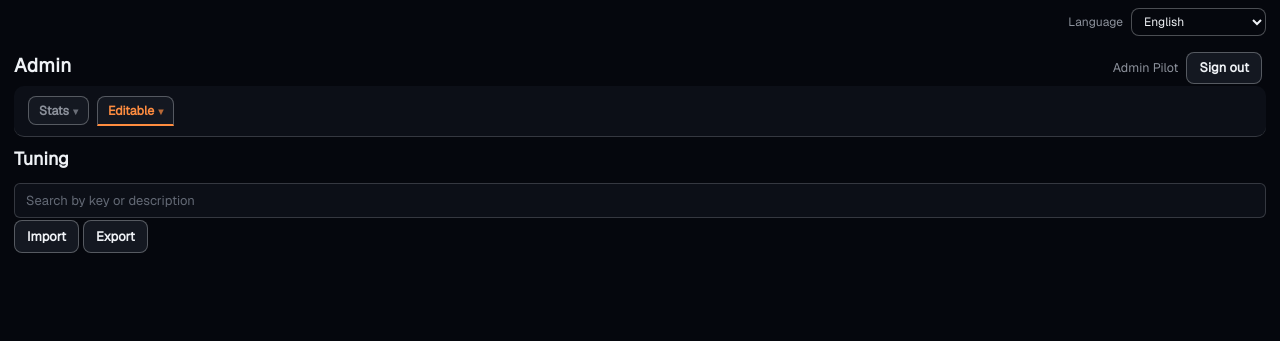
Test case: admin tuning routing › collapses each nav group into a click-to-open menu (round 5)
Check: the heading "Tuning" is shown, box [14, 147, 69, 170]
Check: the link "Dashboard" is not shown
Step 1. Click the button "Stats" → (58, 110), box [28, 96, 89, 125]
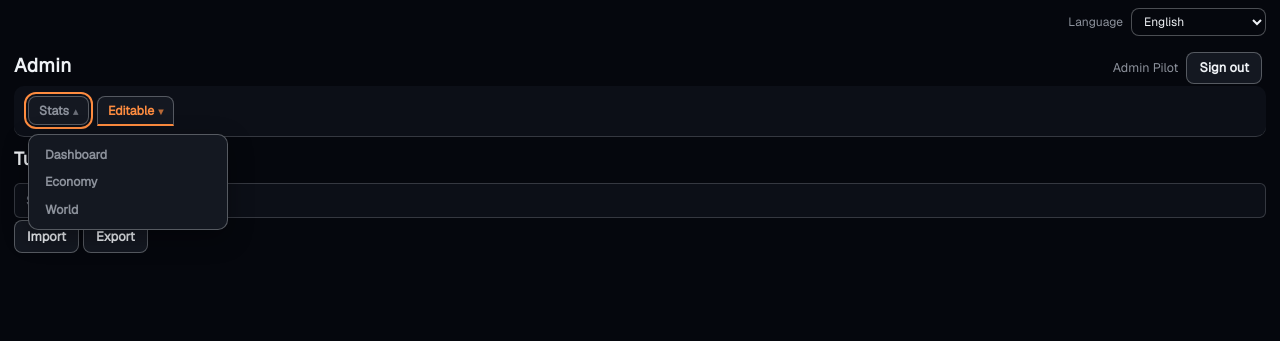
Check: the link "Dashboard" is shown, box [45, 146, 107, 163]
// Clicking outside closes it again without navigating.
Step 2. Click the element that starts with "Language" → (640, 162), box [0, 0, 1279, 325]
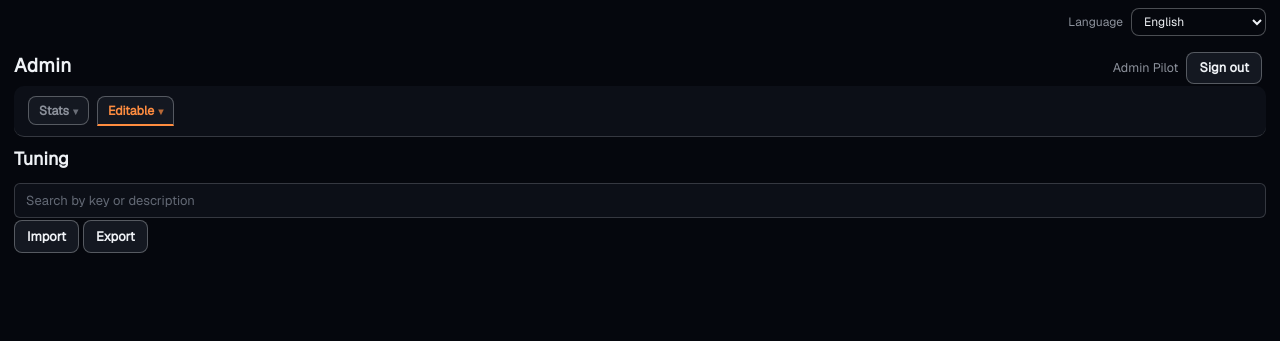
Check: the link "Dashboard" is gone
